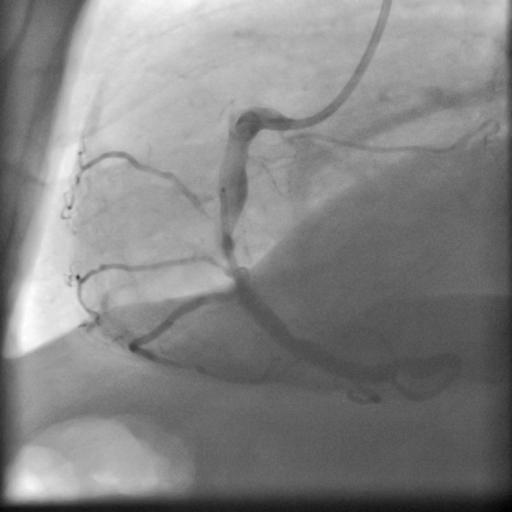Stenosis: (219, 229, 252, 283)
